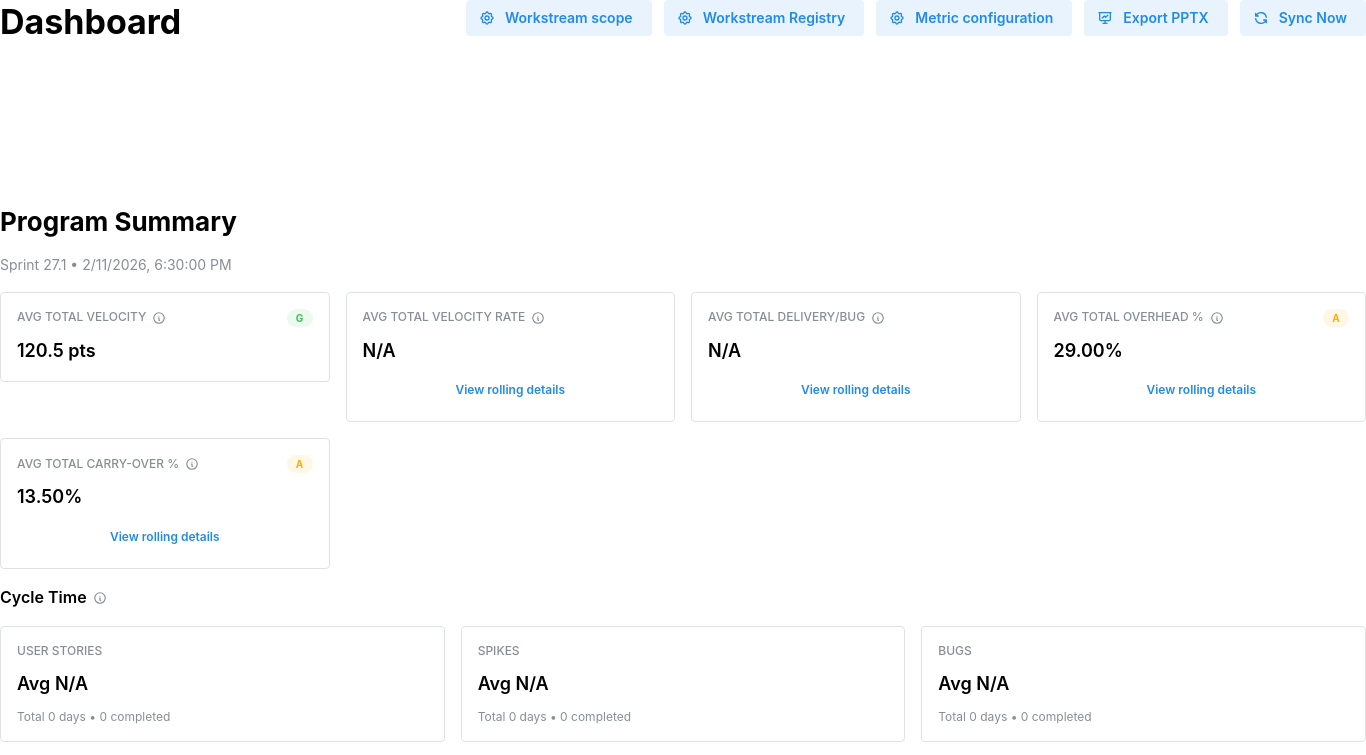
Test: DashboardContainer › opens ADO credential modal from auth-specific sync failure
Click the button "Sync Now" at (1303, 18), box top-left (1240, 0), bottom-right (1365, 36)
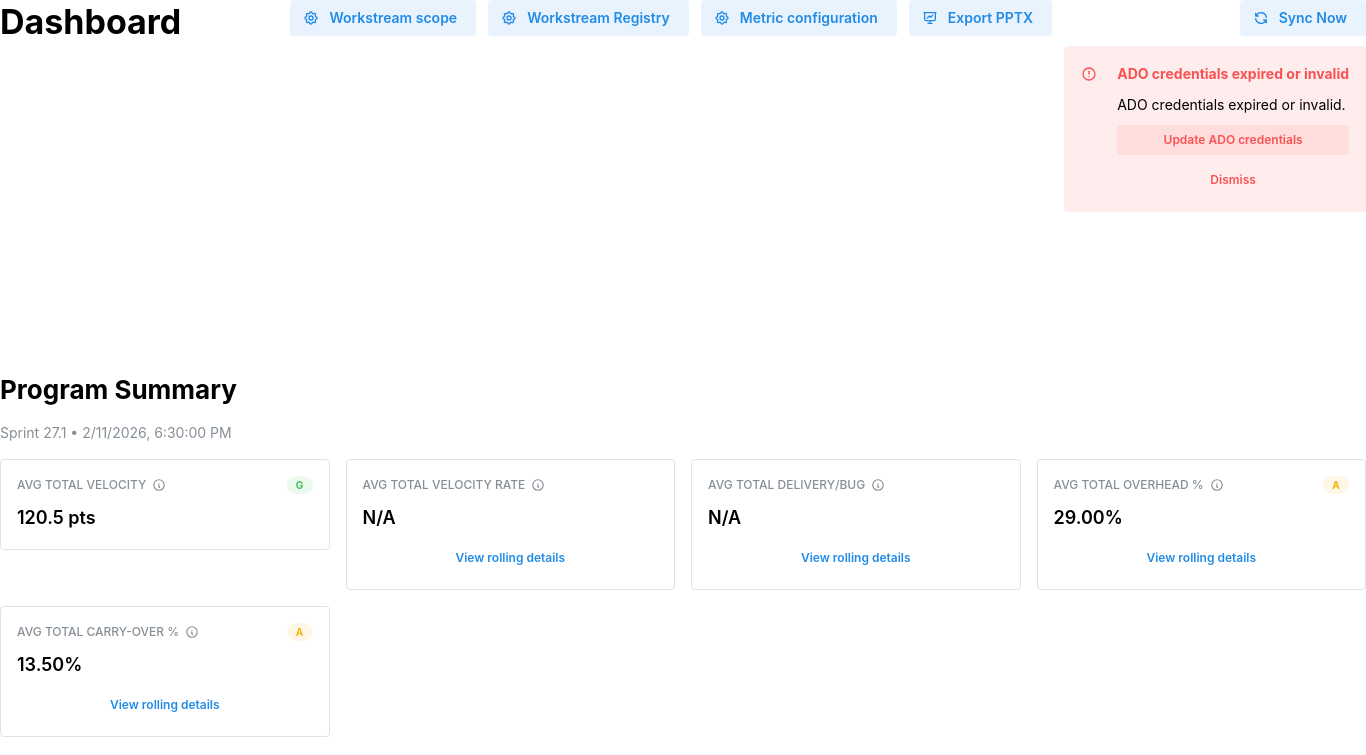
Result: the text "ADO credentials expired or invalid" is shown at top-left (1117, 63), bottom-right (1349, 85)
Click the button "Update ADO credentials" at (1233, 140), box top-left (1117, 125), bottom-right (1349, 155)
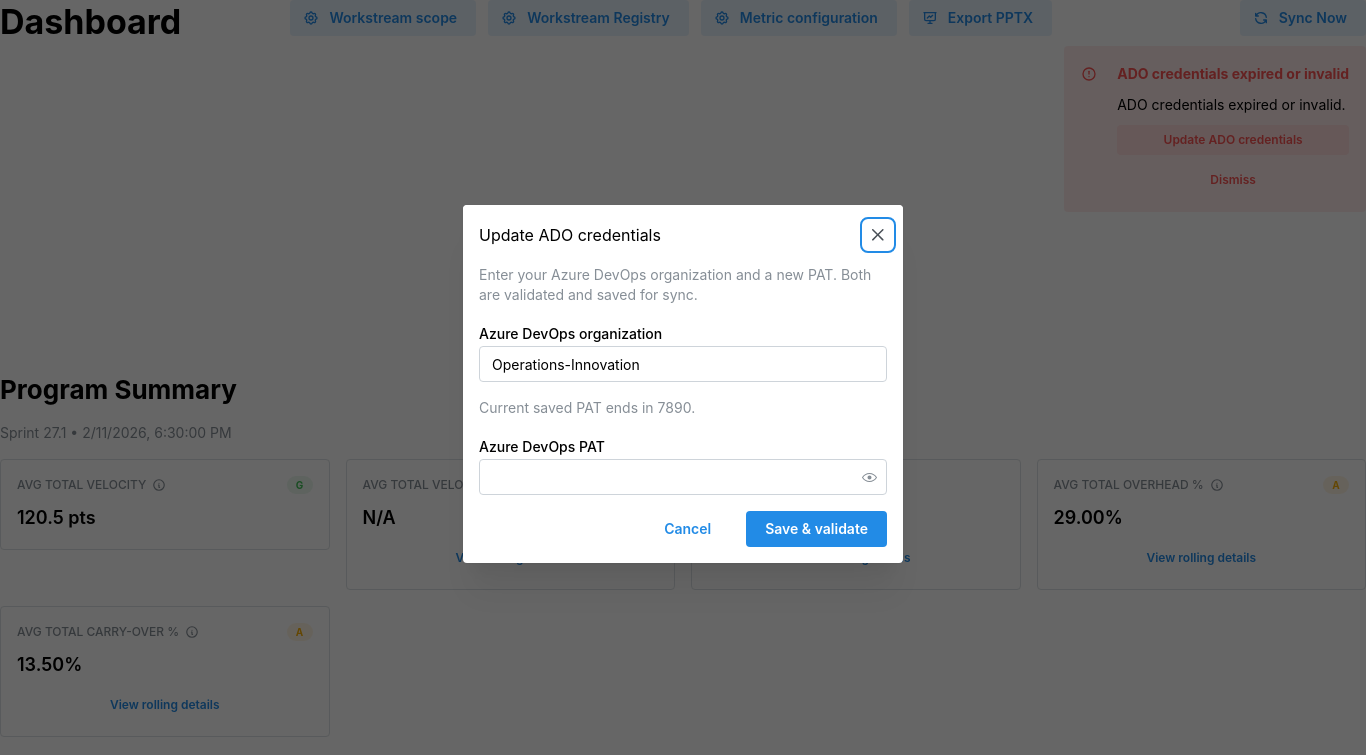
Result: the field showing "Operations-Innovation" is shown at top-left (479, 346), bottom-right (887, 382)
Result: the text "Current saved PAT ends in 7890." is shown at top-left (479, 399), bottom-right (695, 416)
